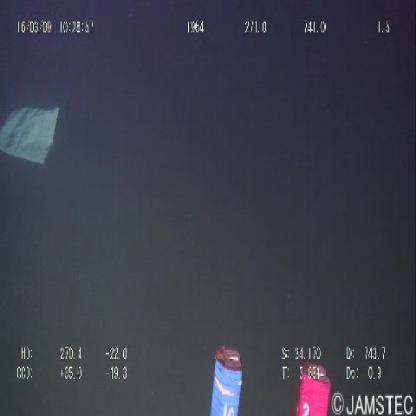Rác: (1, 100, 61, 173)
